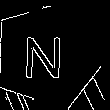N_N: (28, 29, 71, 80)
